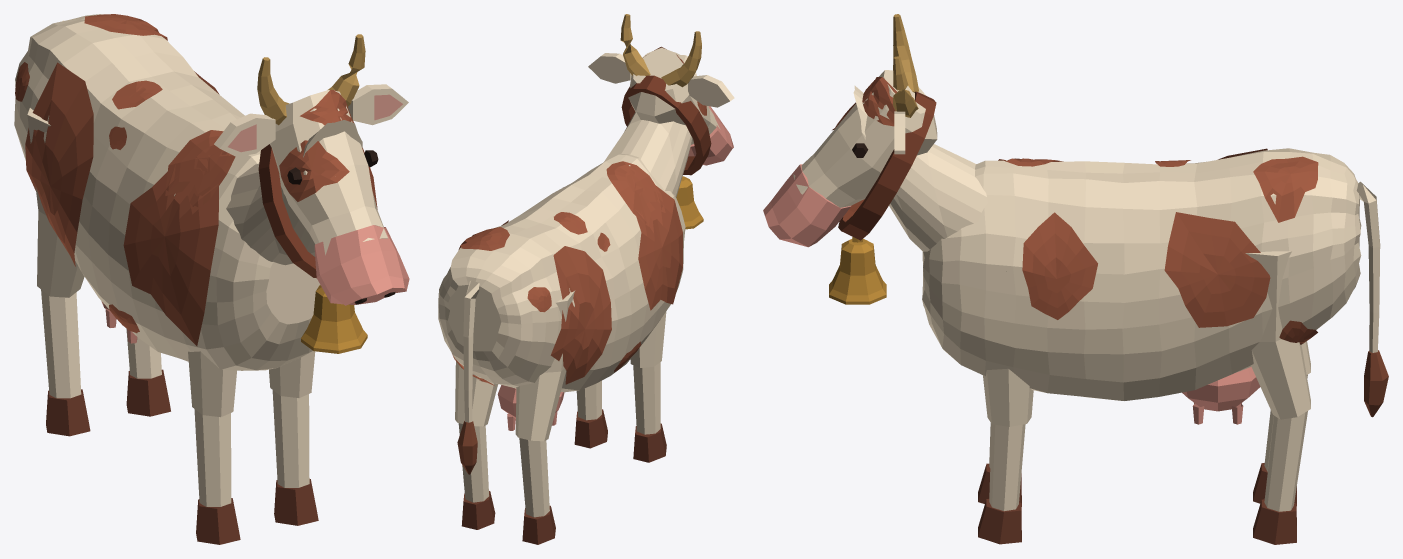
The model's file is cow.glb.
The picture shows the model from 3 angles, left to right: view 1: azimuth 30°, elevation 25°; view 2: azimuth 150°, elevation 25°; view 3: azimuth 270°, elevation 25°; orthographic projection. The views are drawn at different scales.
Parts seen in each view (by area): view 1: body, body_patches, head, muzzle, neck, leg_hl_lower, head_patches, leg_fr_lower, leg_fl_lower, leg_hl_upper, collar, bell (+14 smaller); view 2: body, body_patches, neck, leg_hl_upper, head, collar, leg_hl_lower, leg_fl_lower, leg_hr_upper, tail, leg_hr_lower, ear_r (+13 smaller); view 3: body, body_patches, neck, head, leg_hr_upper, muzzle, collar, leg_hr_lower, bell, leg_fr_lower, leg_fr_upper, udder (+7 smaller).
Part boxes in pixels (x1,y1,x2,y2): body: [14, 14, 320, 370]; body_patches: [15, 14, 235, 346]; head: [270, 90, 387, 255]; muzzle: [314, 225, 409, 305]; neck: [226, 120, 362, 265]; leg_hl_lower: [41, 289, 81, 398]; head_patches: [279, 90, 353, 201]; leg_fr_lower: [272, 390, 309, 487]; leg_fl_lower: [194, 409, 231, 506]; leg_hl_upper: [27, 108, 84, 297]; collar: [258, 144, 377, 278]; bell: [301, 285, 367, 353]; body: [438, 154, 685, 392]; body_patches: [452, 161, 682, 385]; neck: [604, 52, 696, 197]; leg_hl_upper: [515, 290, 575, 441]; head: [628, 47, 720, 144]; collar: [621, 75, 711, 175]; leg_hl_lower: [519, 438, 549, 517]; leg_fl_lower: [633, 362, 660, 434]; leg_hr_upper: [455, 361, 497, 426]; tail: [463, 280, 479, 422]; leg_hr_lower: [458, 423, 489, 502]; ear_r: [688, 75, 734, 107]; body: [922, 148, 1361, 400]; body_patches: [998, 148, 1318, 344]; neck: [853, 85, 987, 251]; head: [793, 70, 937, 207]; leg_hr_upper: [1245, 251, 1310, 419]; muzzle: [763, 164, 851, 247]; collar: [838, 91, 936, 240]; leg_hr_lower: [1264, 411, 1307, 511]; bell: [829, 236, 886, 304]; leg_fr_lower: [989, 424, 1025, 511]; leg_fr_upper: [983, 271, 1033, 426]; udder: [1182, 366, 1260, 424].
Bounding box in the file's own units: 0.7272 × 1.92 × 2.25.
